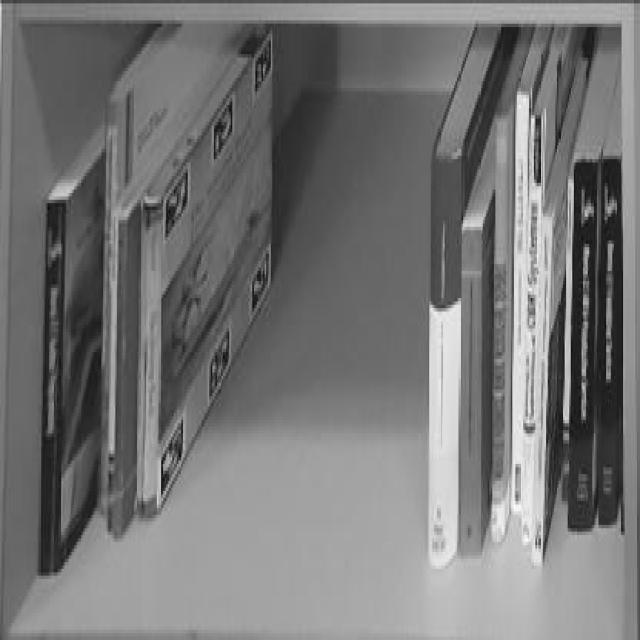book: (141, 97, 277, 506), (423, 10, 476, 559), (571, 154, 638, 530), (483, 217, 489, 224)
